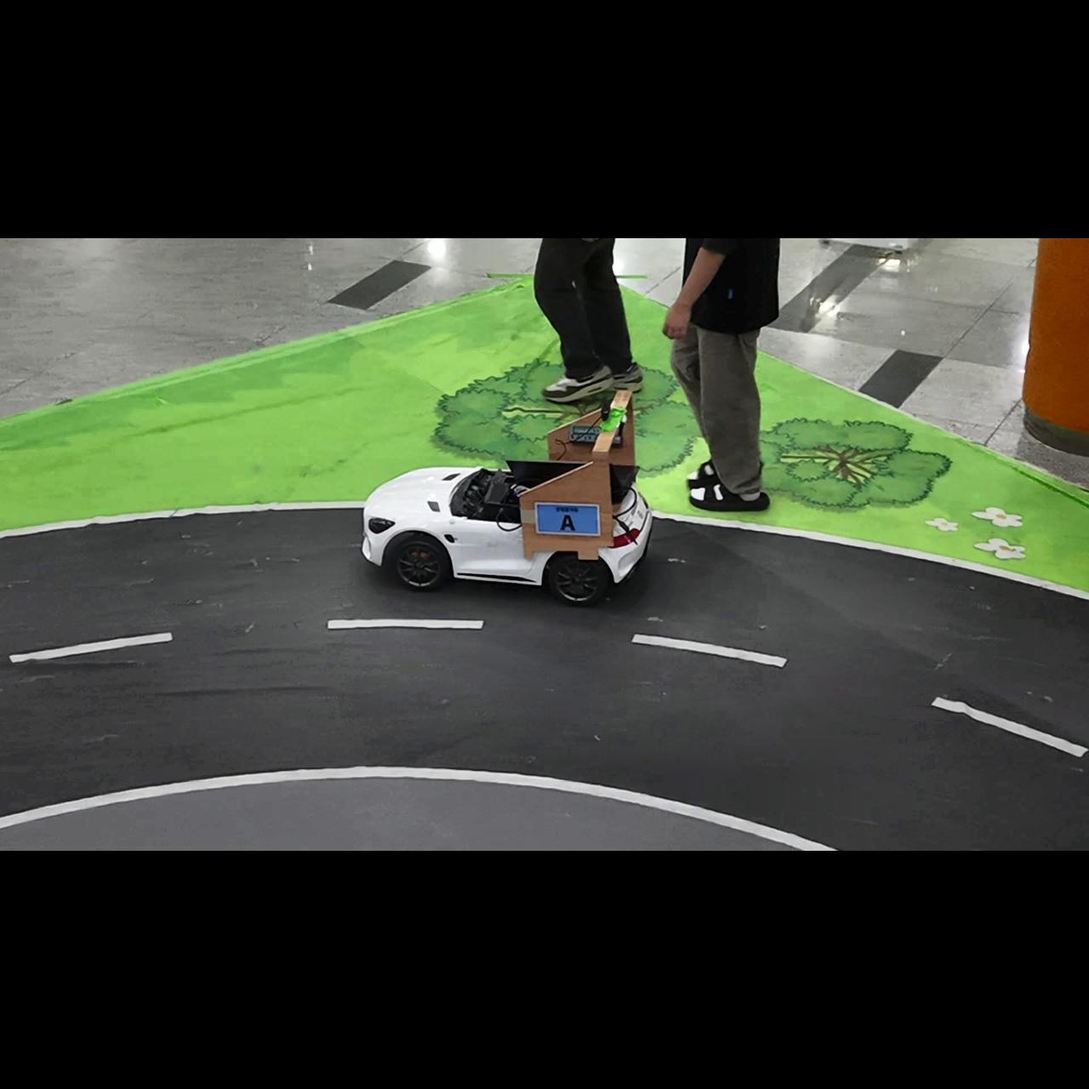broken_line: (930, 697, 1088, 757), (632, 634, 786, 667), (9, 632, 172, 662), (327, 619, 484, 630)
